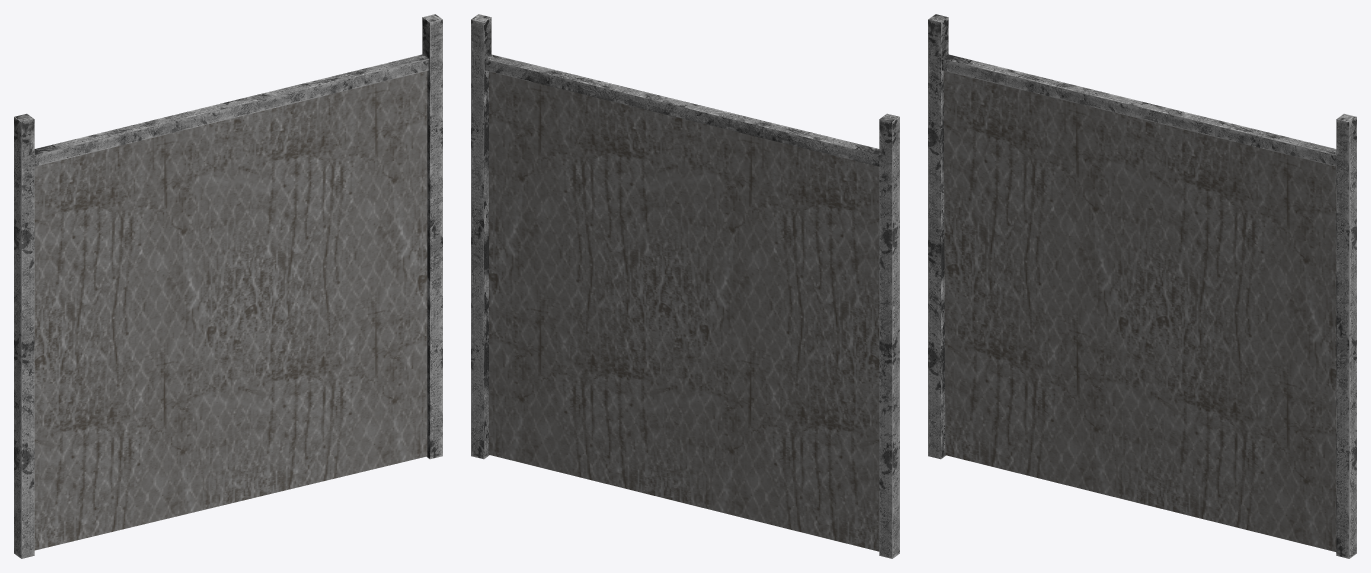
Rendered from Fence_Metal.fbx.
The picture shows the model from 3 angles, left to right: view 1: azimuth 30°, elevation 25°; view 2: azimuth 150°, elevation 25°; view 3: azimuth 330°, elevation 25°; orthographic projection.
Visible parts, largest first — view 1: Cerca; view 2: Cerca; view 3: Cerca.
Boxes of the visible parts, x1,y1,x2,y2 form: Cerca: [14, 14, 442, 558]; Cerca: [471, 14, 899, 558]; Cerca: [928, 14, 1356, 558].
Bounding box in the file's own units: 261 × 259 × 8.06.
